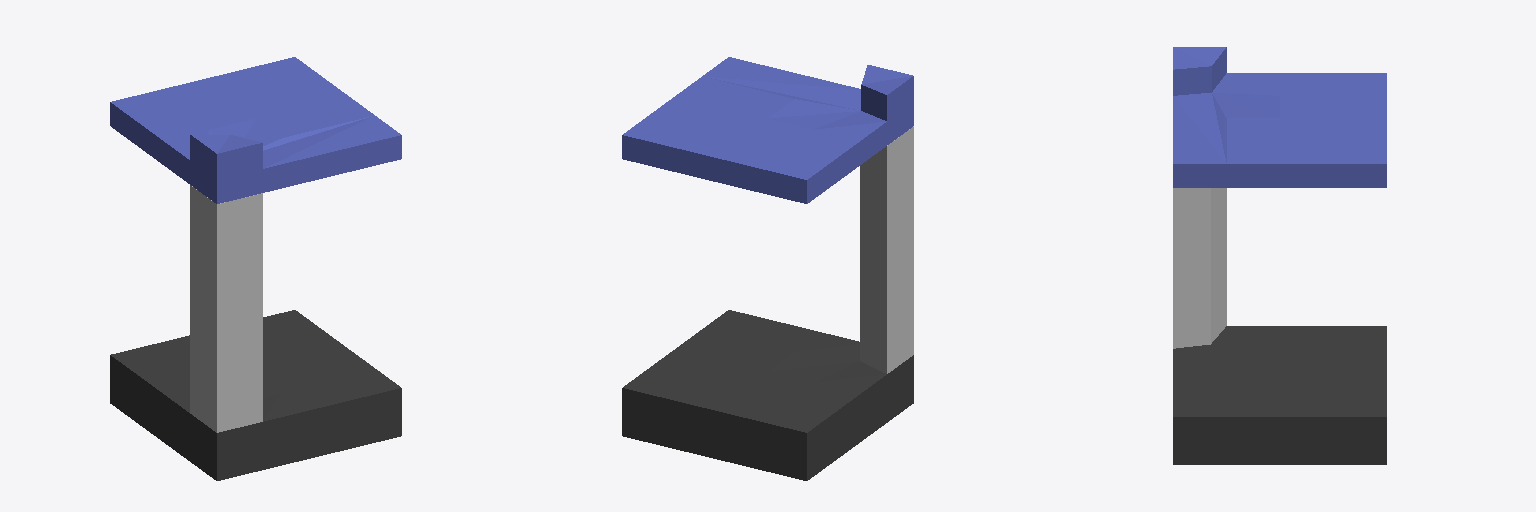
The model's file is InsetWallCorner.obj.
3 views of the same model, side by side, from view 1: azimuth 30°, elevation 25°; view 2: azimuth 150°, elevation 25°; view 3: azimuth 270°, elevation 25° (orthographic).
Parts seen in each view (by area): view 1: Cube; view 2: Cube; view 3: Cube.
Part boxes in pixels (x1,y1,x2,y2): Cube: (110,57,401,480); Cube: (622,57,913,480); Cube: (1173,47,1386,464).
Bounding box in the file's own units: 4 × 6.77 × 4.